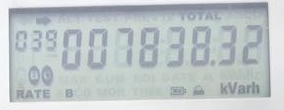digit: (214, 19, 239, 69), (161, 24, 188, 69), (239, 22, 265, 68), (84, 27, 111, 71), (60, 26, 84, 73), (112, 24, 136, 69), (189, 24, 213, 68), (136, 26, 160, 69)
